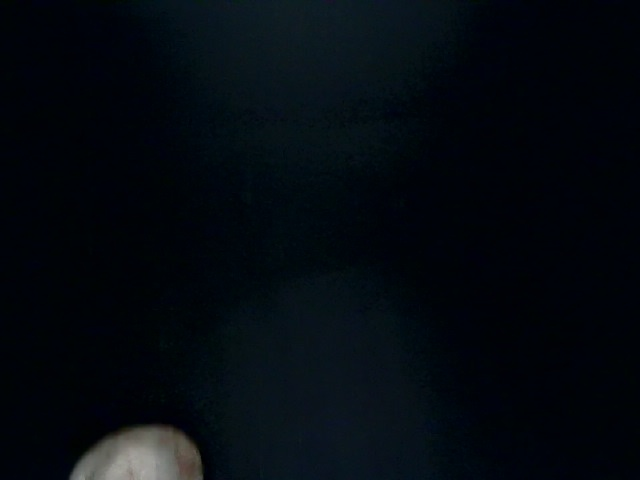QTLJ: (70, 109, 389, 352)
